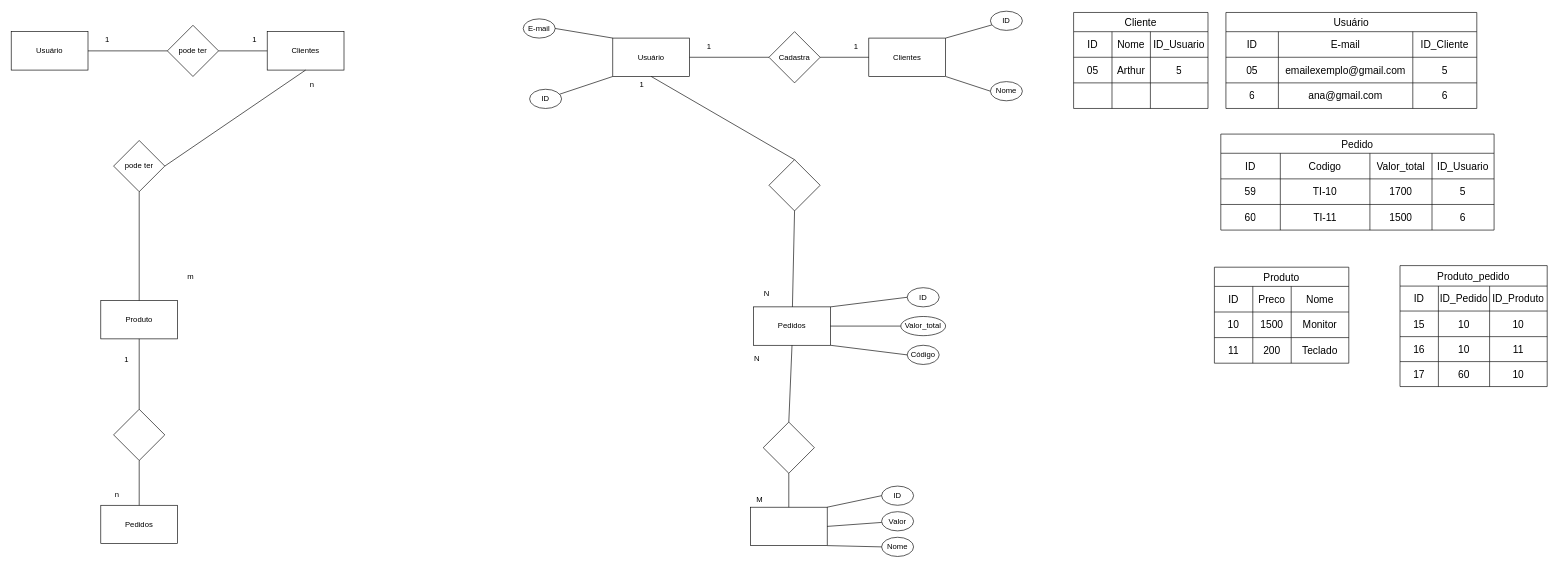
The diagram is 1558 pixels wide and 568 high, and some of its shapes have lost their labels. The centre of each missing label's shape, as x and y in pixels:
"Contém" goes at [788,447].
"Pode estar" goes at [139,434].
"Produtos" goes at [788,526].
"Realiza" goes at [794,185].
